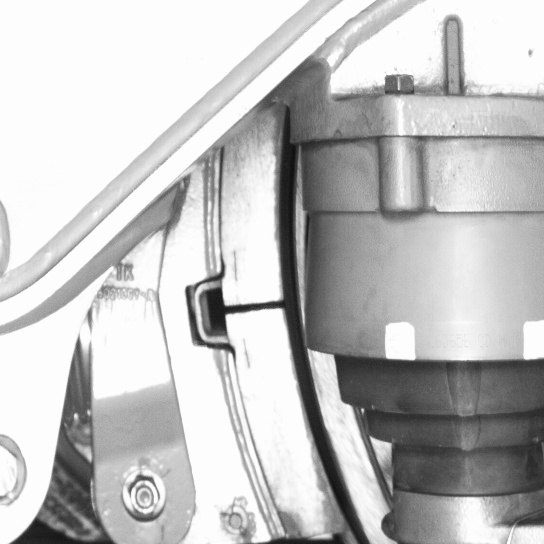KnifeSwitch: (219, 138, 373, 541)
